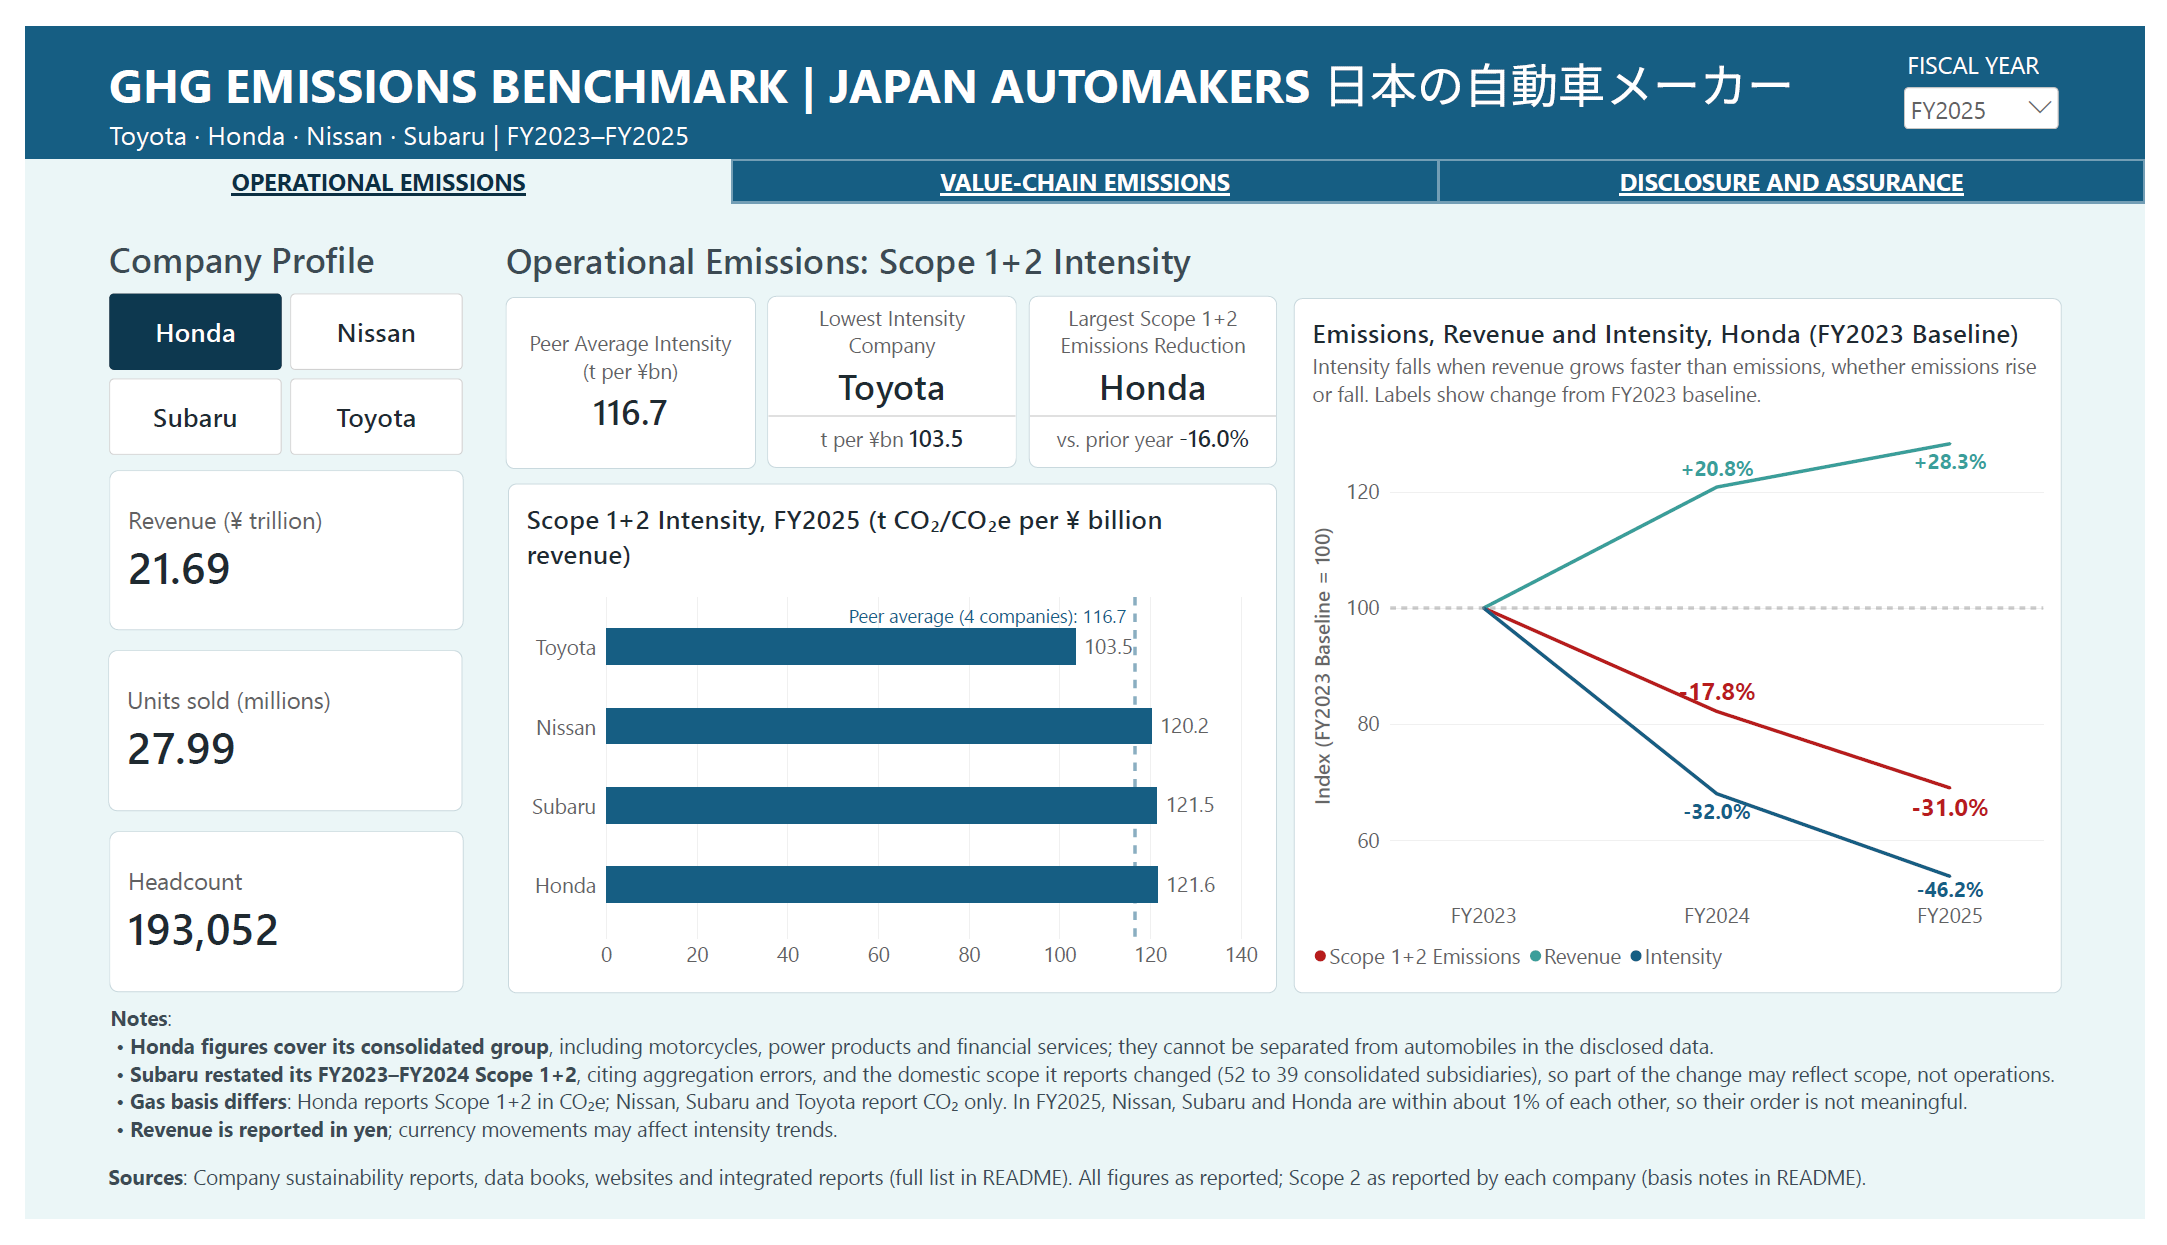

The page's visual inventory and layout, read from the dashboard file:
{"tool":"powerbi","page":{"name":"OPERATIONAL EMISSIONS","canvas":[1920,1080],"ordinal":0},"visuals":[{"type":"textbox","title":"S12 Intensity Bar Chart Notes","box":[77.2,885.8,1768.3,141.7],"z":0,"group":"g1"},{"type":"textbox","title":"Footnote","box":[75,1030,1770,50],"z":0},{"type":"pageNavigator","title":"Page Navigator","box":[0,120,1920,40],"z":1000,"group":"g3"},{"type":"group","id":"g1","title":"Operational Emissions","box":[77.2,188.9,1768.3,838.5],"z":1000},{"type":"cardVisual","title":"Headcount Card","fields":{"Data":["operations.Headcount"]},"box":[75.7,729.4,320.8,145.6],"z":1000,"group":"g2"},{"type":"lineChart","fields":{"Category":["fiscal_year.fiscal_year"],"Y":["_Measures.S12 Index","_Measures.Revenue Index","_Measures.Intensity Index"]},"box":[1148.9,245.8,696.7,630],"z":1375,"group":"g1"},{"type":"shape","title":"Top Panel","box":[0,0,1920,120],"z":2000,"group":"g3"},{"type":"group","id":"g2","title":"Company Profile","box":[75,188.3,321.7,686.7],"z":2000},{"type":"cardVisual","title":"Units Sold Card","fields":{"Data":["operations.Units sold (as reported)"]},"box":[75,565.6,320.8,145.6],"z":2000,"group":"g2"},{"type":"barChart","fields":{"Category":["fundamentals.company_name"],"Y":["emissions.Intensity (t per ¥bn)"]},"box":[437.2,414.1,696.7,461.7],"z":2750,"group":"g1"},{"type":"group","id":"g3","title":"Project Title Bar","box":[0,0,1920,160],"z":3000},{"type":"slicer","title":"FY Dropdown","fields":{"Values":["fiscal_year.fiscal_year"]},"box":[1696.7,20,150,100],"z":3000,"group":"g3"},{"type":"cardVisual","title":"Largest S12 Reduction KPI","fields":{"Data":["_Measures.Largest Scope 1+2 Reduction"]},"box":[908.9,244,225.4,155.6],"z":3000,"group":"g1"},{"type":"cardVisual","title":"Revenue Card","fields":{"Data":["operations.Revenue (¥ trillion)"]},"box":[75.7,401.9,320.8,145.6],"z":3000,"group":"g2"},{"type":"textbox","title":"Project Title","box":[76,20,1538,110],"z":4000,"group":"g3"},{"type":"advancedSlicerVisual","title":"Company Slicer","fields":{"Values":["fundamentals.company_name"]},"box":[75.7,242.2,320.8,146.3],"z":4000,"group":"g2"},{"type":"cardVisual","title":"Lowest Intensity Company KPI","fields":{"Data":["_Measures.Lowest Intensity Company"]},"box":[671.8,244,226.9,155.6],"z":4000,"group":"g1"},{"type":"textbox","title":"Company Profile Title","box":[75.8,188.3,320.8,47],"z":5000,"group":"g2"},{"type":"cardVisual","title":"Peer Average Intensity Card","fields":{"Data":["_Measures.Peer Average Intensity"]},"box":[435,245.1,226.9,155.6],"z":5000,"group":"g1"},{"type":"textbox","title":"Operational Emissions Title","box":[435.5,188.9,1410,50],"z":6000,"group":"g1"}]}

Visuals, with their boxes in screenshot pixels (x1, y1, x2, y2), scaled from the page's 1920x1080 canvas onto the 2167x1245 screenshot:
"S12 Intensity Bar Chart Notes" textbox: Rect(87, 1021, 2083, 1184)
"Footnote" textbox: Rect(85, 1187, 2082, 1244)
"Page Navigator" pageNavigator: Rect(0, 138, 2166, 184)
"Operational Emissions" group: Rect(87, 218, 2083, 1184)
"Headcount Card" cardVisual: Rect(85, 841, 448, 1009)
lineChart - fiscal_year.fiscal_year x _Measures.S12 Index: Rect(1297, 283, 2083, 1010)
"Top Panel" shape: Rect(0, 0, 2166, 138)
"Company Profile" group: Rect(85, 217, 448, 1009)
"Units Sold Card" cardVisual: Rect(85, 652, 447, 820)
barChart - fundamentals.company_name x emissions.Intensity (t per ¥bn): Rect(493, 477, 1280, 1010)
"Project Title Bar" group: Rect(0, 0, 2166, 184)
"FY Dropdown" slicer: Rect(1915, 23, 2084, 138)
"Largest S12 Reduction KPI" cardVisual: Rect(1026, 281, 1280, 461)
"Revenue Card" cardVisual: Rect(85, 463, 448, 631)
"Project Title" textbox: Rect(86, 23, 1822, 150)
"Company Slicer" advancedSlicerVisual: Rect(85, 279, 448, 448)
"Lowest Intensity Company KPI" cardVisual: Rect(758, 281, 1014, 461)
"Company Profile Title" textbox: Rect(86, 217, 448, 271)
"Peer Average Intensity Card" cardVisual: Rect(491, 283, 747, 462)
"Operational Emissions Title" textbox: Rect(492, 218, 2083, 275)
